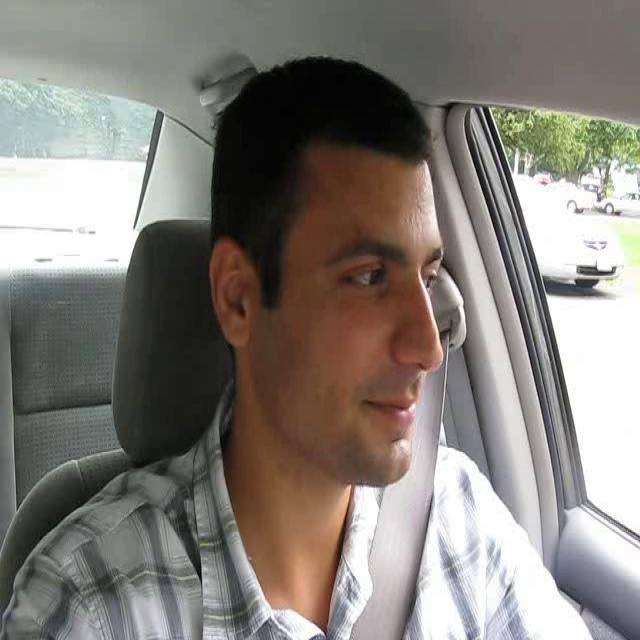close: (362, 384, 418, 426)
